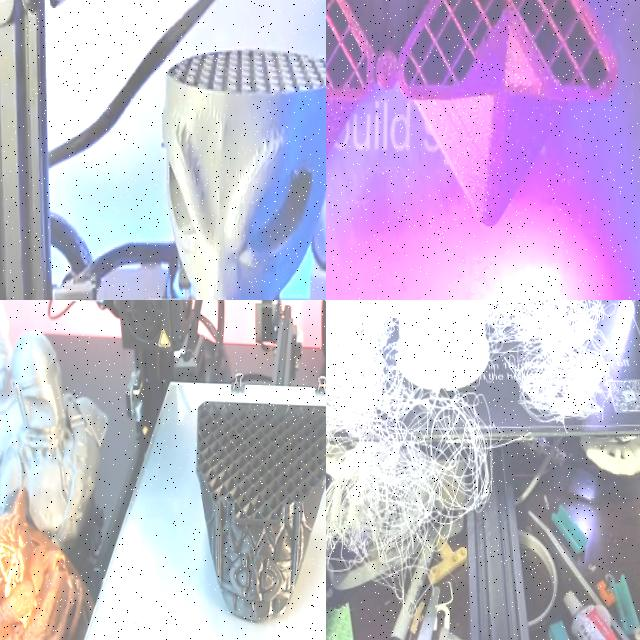spaghetti: (326, 300, 608, 593)
